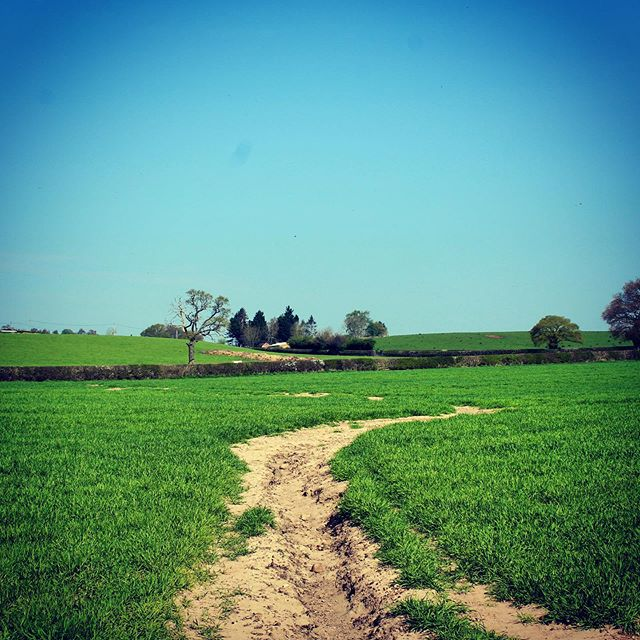grass: (14, 368, 640, 640)
sky: (4, 1, 625, 299)
tree: (164, 280, 241, 371), (594, 274, 640, 343), (528, 306, 580, 353), (246, 308, 274, 349), (228, 307, 256, 348), (271, 301, 299, 342), (343, 308, 374, 341), (360, 311, 391, 344)
